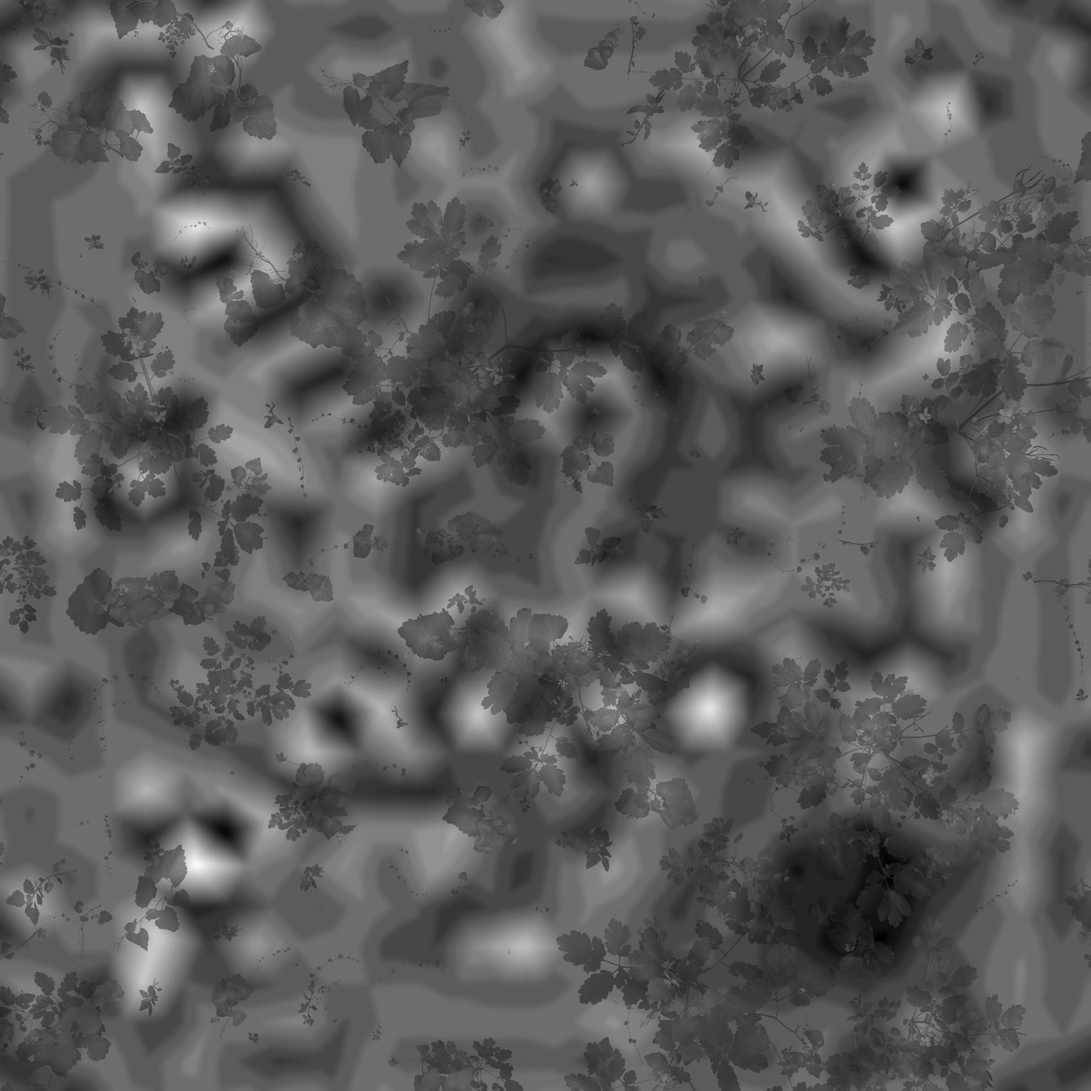landmine: (485, 312, 691, 507), (767, 809, 941, 986)
